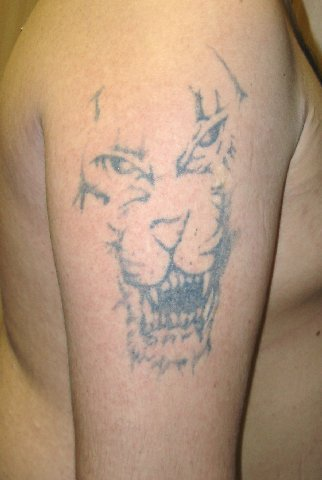tatu5_tigr: (72, 44, 247, 381)
